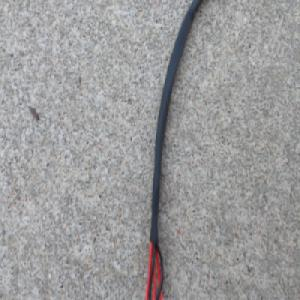Wire: (141, 0, 205, 300)
